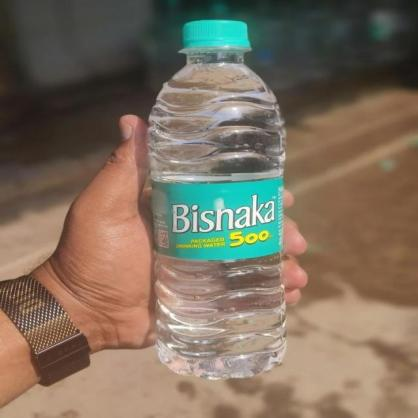bottle: (147, 21, 286, 380)
cap: (180, 22, 250, 52)
label: (150, 174, 283, 260)
